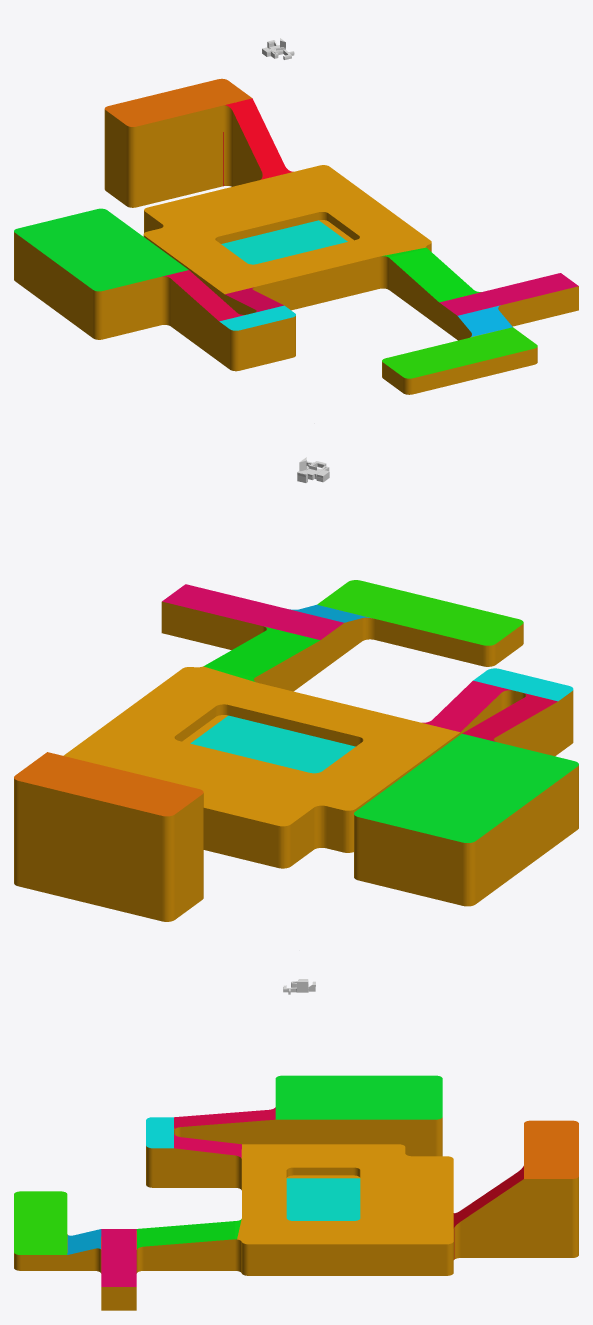
Rendered from CuevaB20.fbx.
3 views of the same model, one above another, from view 1: azimuth 30°, elevation 25°; view 2: azimuth 150°, elevation 25°; view 3: azimuth 270°, elevation 25° (orthographic). The views are drawn at different scales.
Visible parts, largest first — view 1: Cube; view 2: Cube, Cube.001; view 3: Cube.
Part boxes in pixels (<box>): Cube: <box>14,78,578,394</box>; Cube: <box>14,580,578,921</box>; Cube.001: <box>297,457,329,482</box>; Cube: <box>14,1075,578,1310</box>.
Bounding box in the file's own units: 12.73 × 16.2 × 8.38.
